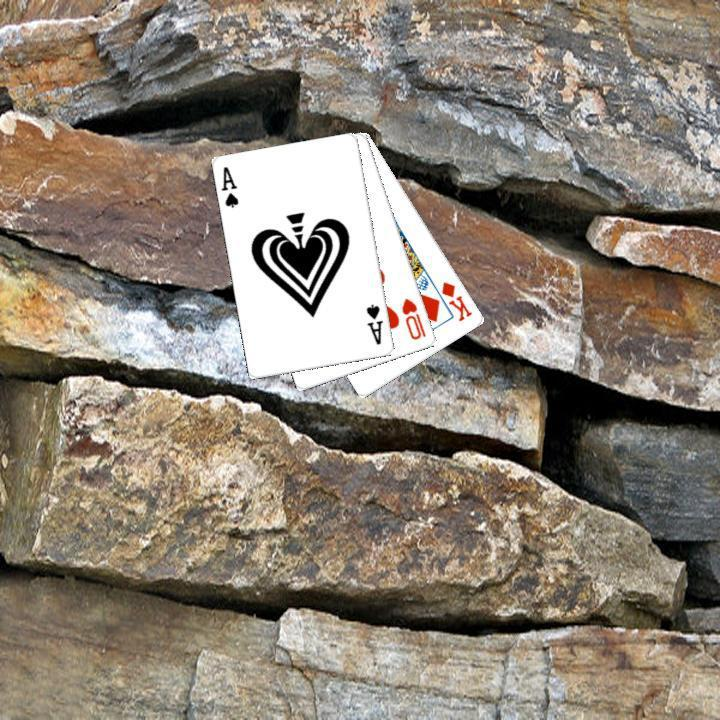10: (398, 294, 428, 342)
A: (217, 162, 241, 210), (362, 300, 385, 347)
K: (437, 277, 474, 323)
